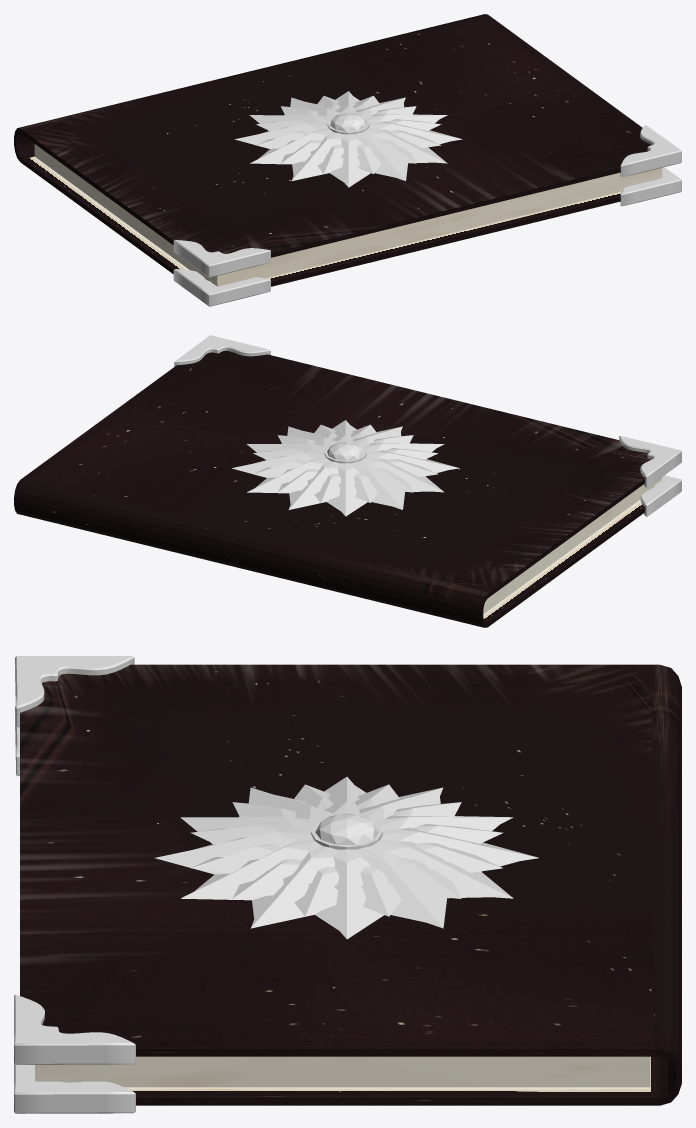
File: Livro topologia.fbx
The picture shows the model from 3 angles, top to bottom: view 1: azimuth 30°, elevation 25°; view 2: azimuth 150°, elevation 25°; view 3: azimuth 270°, elevation 25°; orthographic projection. The views are drawn at different scales.
Visible parts, largest first — view 1: Livro Topologia; view 2: Livro Topologia; view 3: Livro Topologia.
Part boxes in pixels (x1=…): Livro Topologia: x1=14, y1=14, x2=681, y2=306; Livro Topologia: x1=14, y1=335, x2=681, y2=627; Livro Topologia: x1=14, y1=656, x2=681, y2=1113.
Bounding box in the file's own units: 157 × 19.34 × 114.
3 materials, 1 textured.
